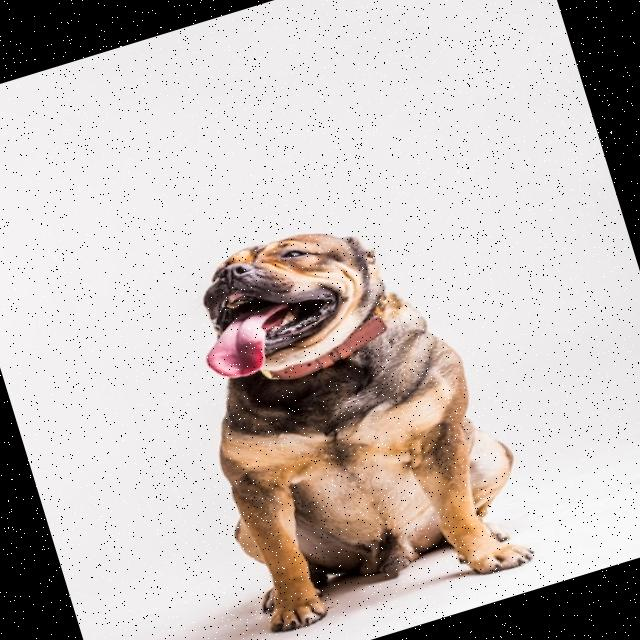Dog: (152, 192, 541, 640)
